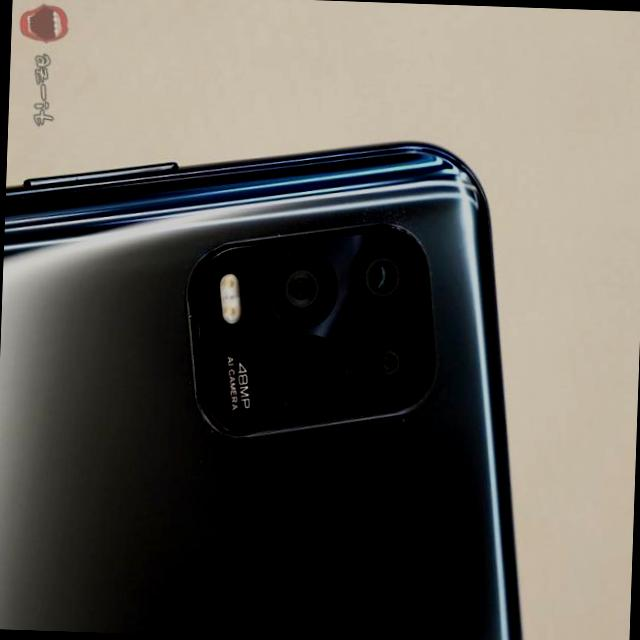lens_back: (264, 250, 330, 324), (346, 234, 406, 314), (275, 339, 341, 410), (357, 336, 417, 398)
